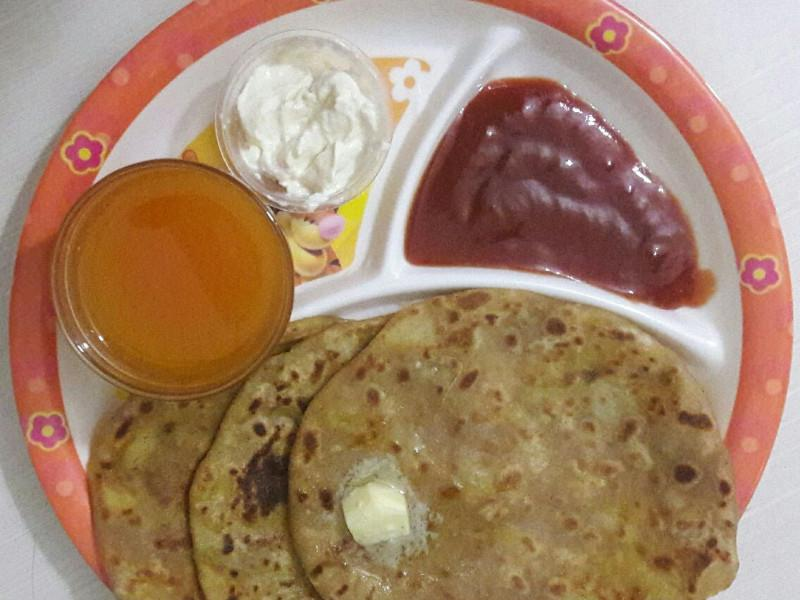aloo_paratha: (89, 290, 744, 600)
